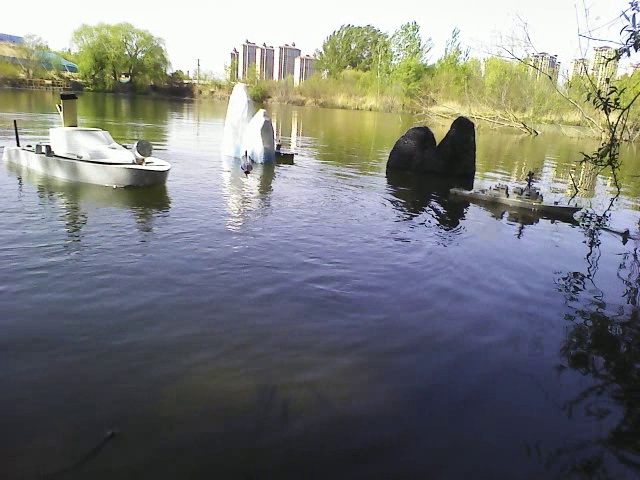boat: (6, 114, 171, 189)
iceberg: (222, 79, 280, 167)
rock: (381, 110, 478, 186)
submarine: (238, 150, 257, 174)
warship: (452, 176, 589, 219)
